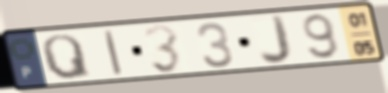3: (142, 22, 185, 75), (195, 20, 235, 69)
9: (300, 12, 342, 61)
I: (101, 27, 125, 78)
J: (258, 13, 295, 67)
Q: (39, 32, 95, 81)
